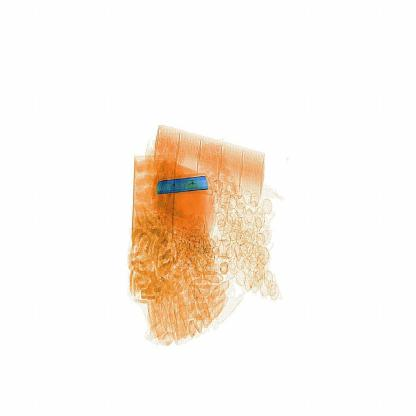pliers: (152, 169, 224, 210)
